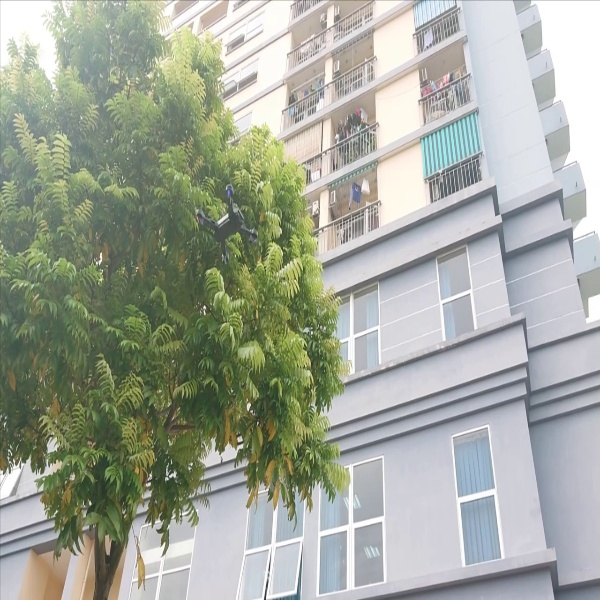drone: (190, 176, 266, 267)
